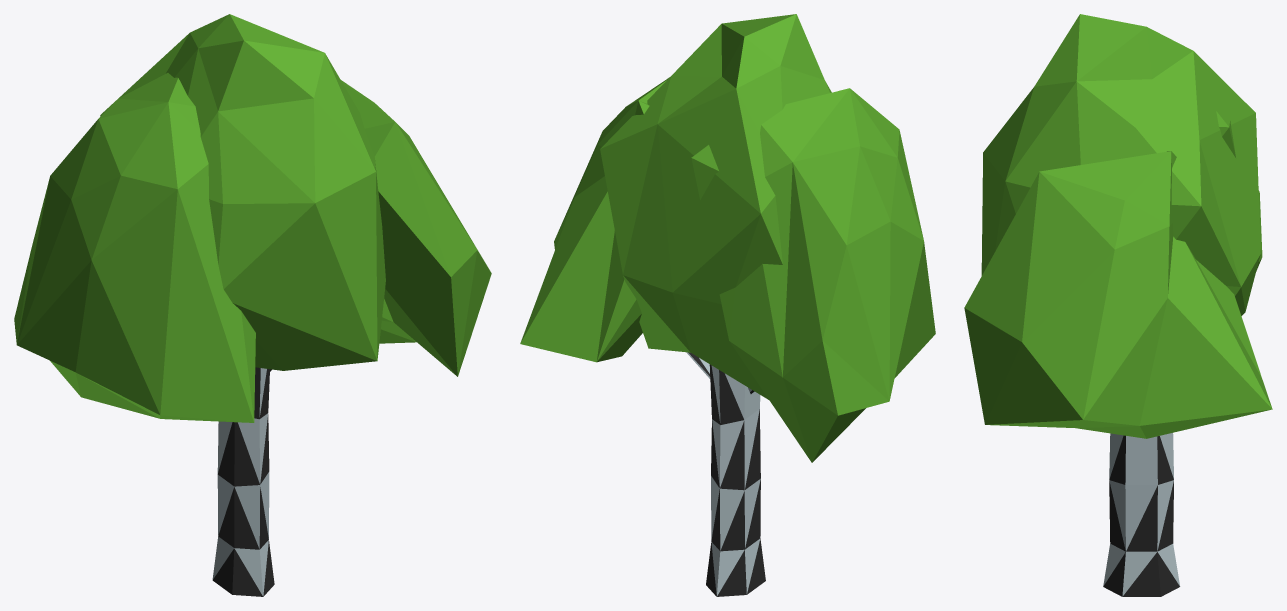
File: BirchSmall.fbx
The picture shows the model from 3 angles, left to right: view 1: azimuth 30°, elevation 25°; view 2: azimuth 150°, elevation 25°; view 3: azimuth 270°, elevation 25°; orthographic projection. The views are drawn at different scales.
Parts seen in each view (by area): view 1: Birch.002; view 2: Birch.002; view 3: Birch.002.
Part boxes in pixels (x1,y1,x2,y2): Birch.002: (14,14,491,596); Birch.002: (520,14,935,596); Birch.002: (964,14,1272,596).
Size of the model in its own units: 0.8237 by 1.1 by 0.5492.
